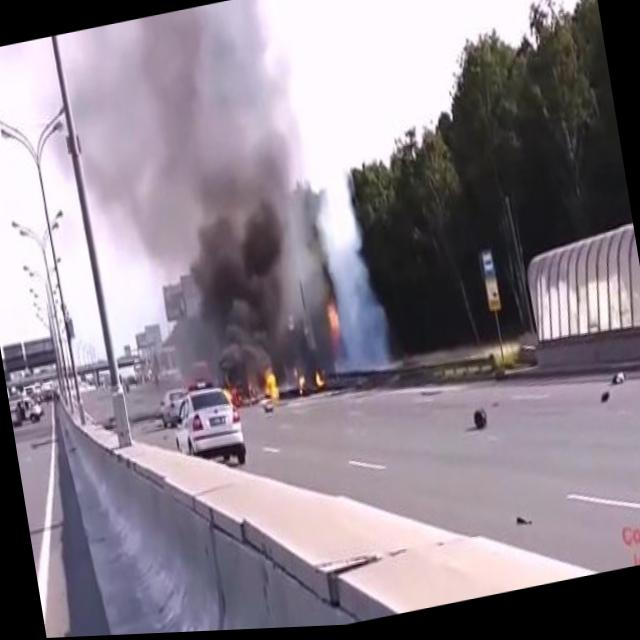fire: (292, 364, 328, 402), (255, 365, 285, 409), (323, 299, 346, 353), (225, 379, 252, 412)
